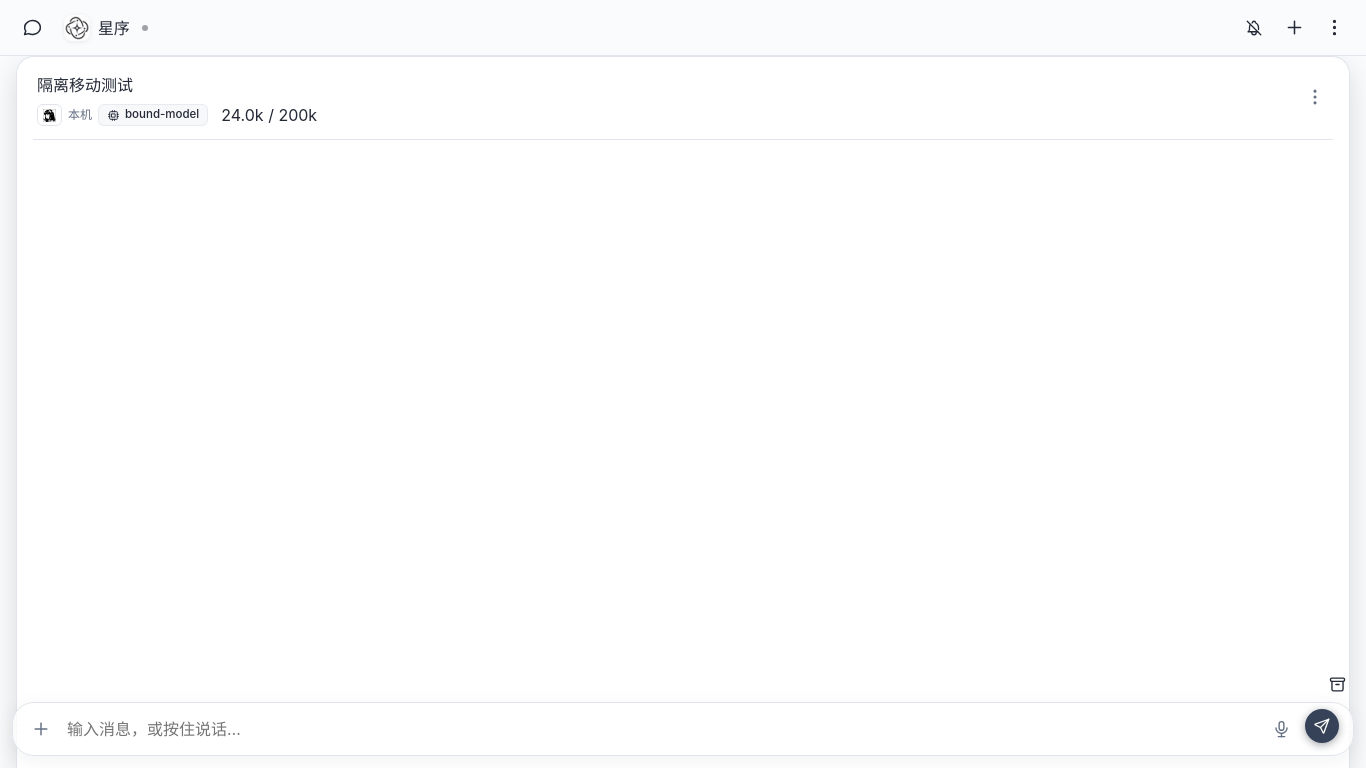
Scenario: independent mobile composer › shows native context usage and opens detailed runtime facts
Click the button named "上下文用量": click(269, 115) [214,100,324,131]
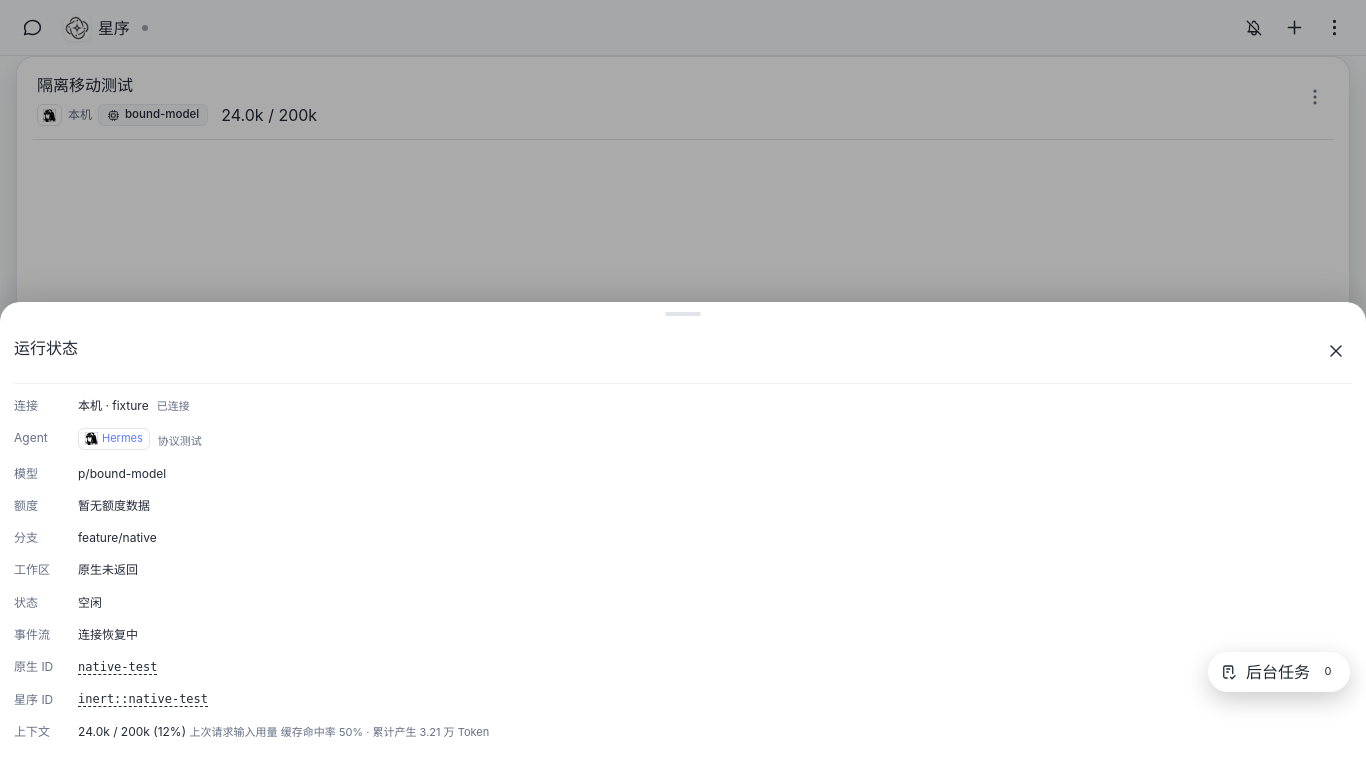
Expected: the element named "运行信息" shows "缓存命中率 50%", [14,398,489,739]
